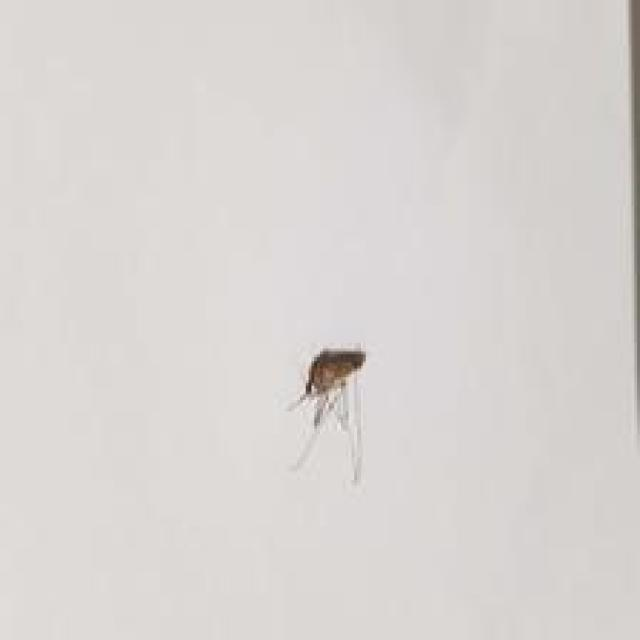Culex: (286, 347, 368, 484)
